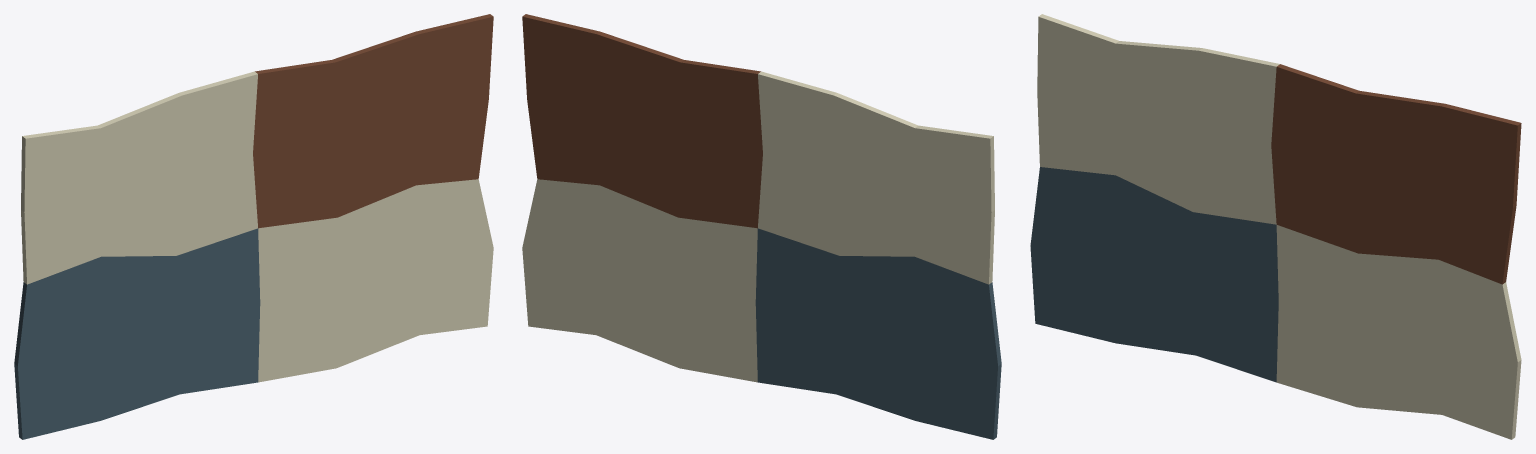
Rendered from Flag_6.fbx.
The picture shows the model from 3 angles, left to right: view 1: azimuth 30°, elevation 25°; view 2: azimuth 150°, elevation 25°; view 3: azimuth 330°, elevation 25°; orthographic projection. The views are drawn at different scales.
Parts seen in each view (by area): view 1: Flag_6; view 2: Flag_6; view 3: Flag_6.
Part boxes in pixels (left/top/right/bottom): Flag_6: left=14, top=14, right=493, bottom=439; Flag_6: left=522, top=14, right=1001, bottom=439; Flag_6: left=1030, top=14, right=1521, bottom=439.
Bounding box in the file's own units: 230 × 145 × 3.
